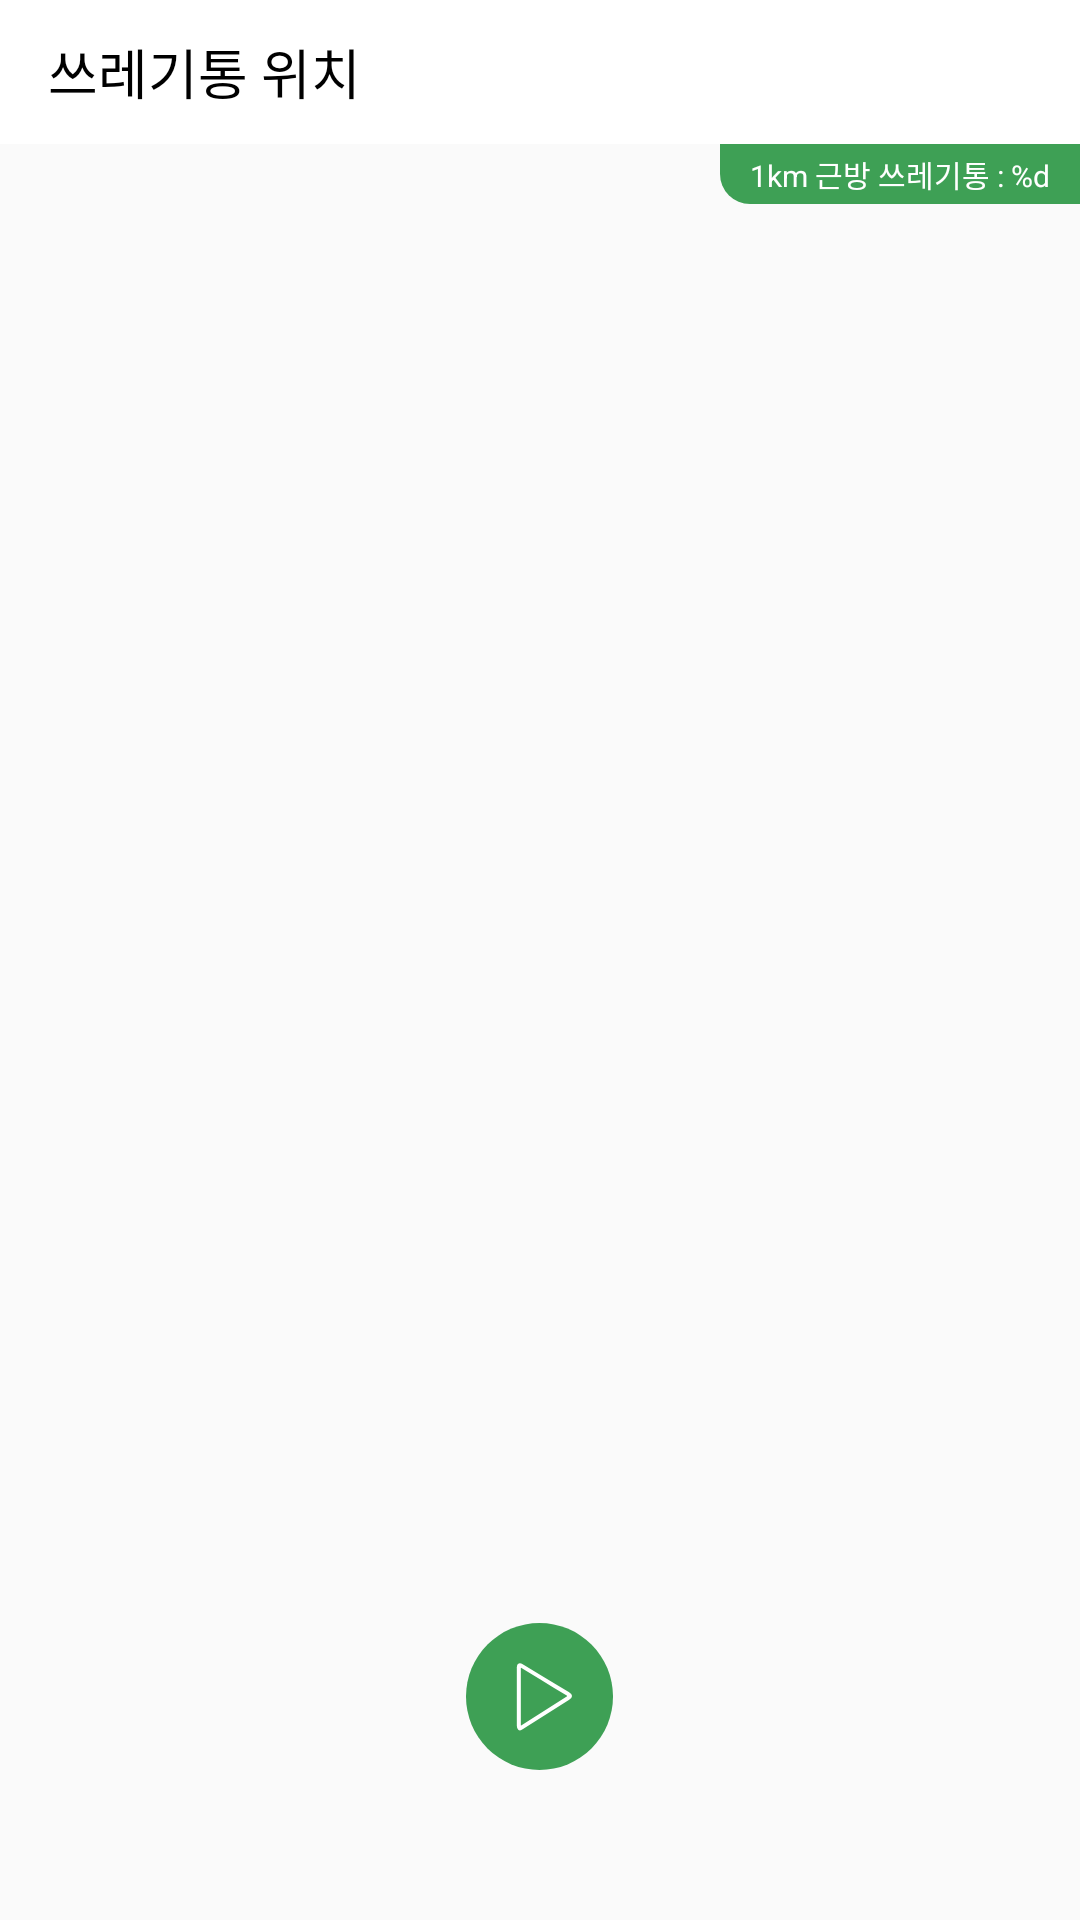

Screen size 1080px x 1920px. Icon name, then its box in pixels as [x1=x1, y1=y1, x2=x2, y2=y2]:
start: [x1=466, y1=1623, x2=613, y2=1770]
